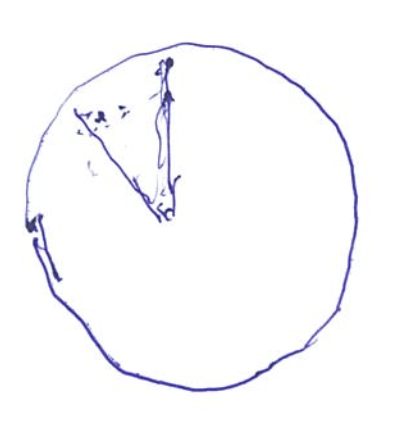contour: (21, 39, 361, 397)
